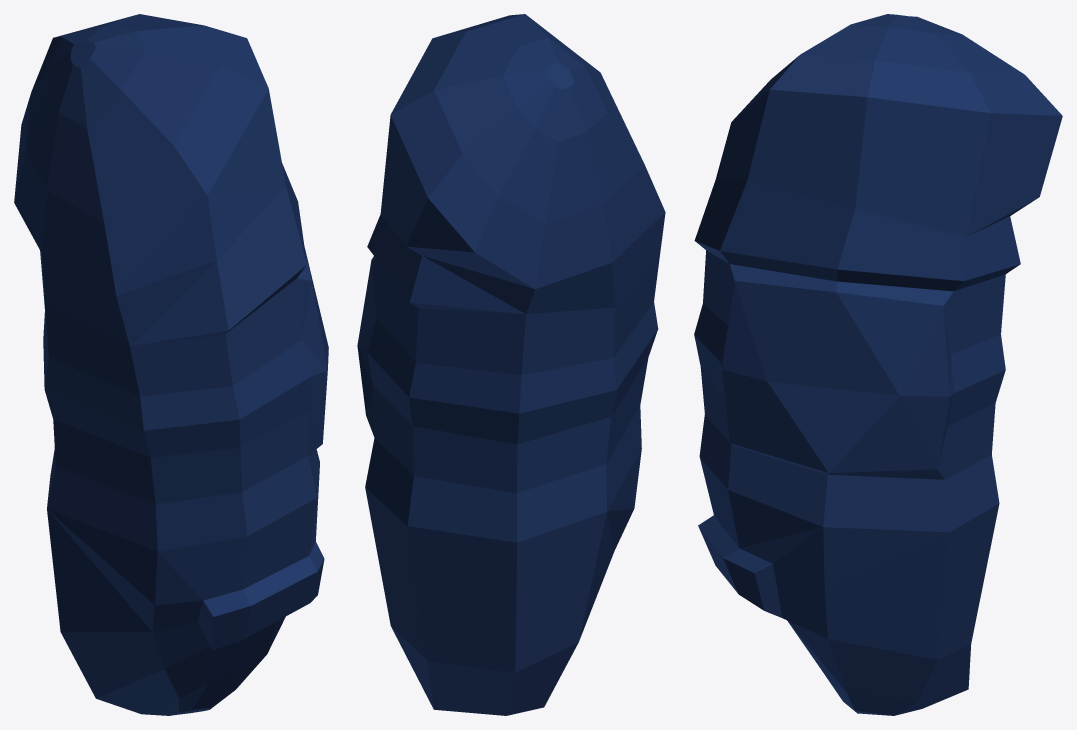
File: left_thigh.fbx
3 renders of one model, left to right at view 1: azimuth 30°, elevation 25°; view 2: azimuth 150°, elevation 25°; view 3: azimuth 270°, elevation 25°, orthographic. The views are drawn at different scales.
Visible parts, largest first — view 1: left_leg_thigh; view 2: left_leg_thigh; view 3: left_leg_thigh.
Part boxes in pixels (<box>): left_leg_thigh: <box>14,14,328,715</box>; left_leg_thigh: <box>357,14,665,715</box>; left_leg_thigh: <box>694,14,1062,715</box>.
Size of the model in its own units: 0.1988 by 0.5275 by 0.2663.
